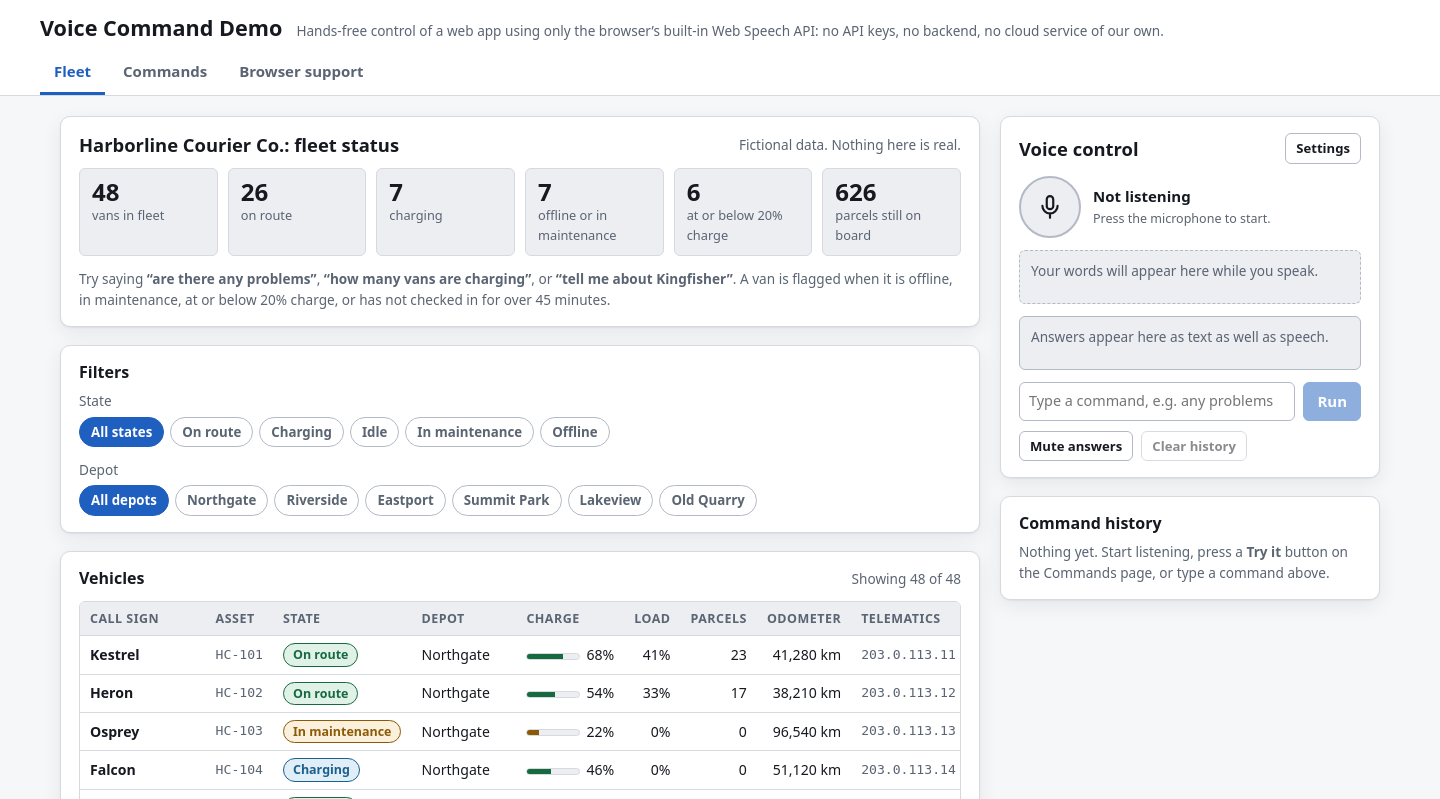
Test: click-to-try: the no-microphone path › runs a command from the Commands page and shows the spoken answer as text
Step 1. Click the button "Commands" → (165, 73), box 109,51 -> 221,95
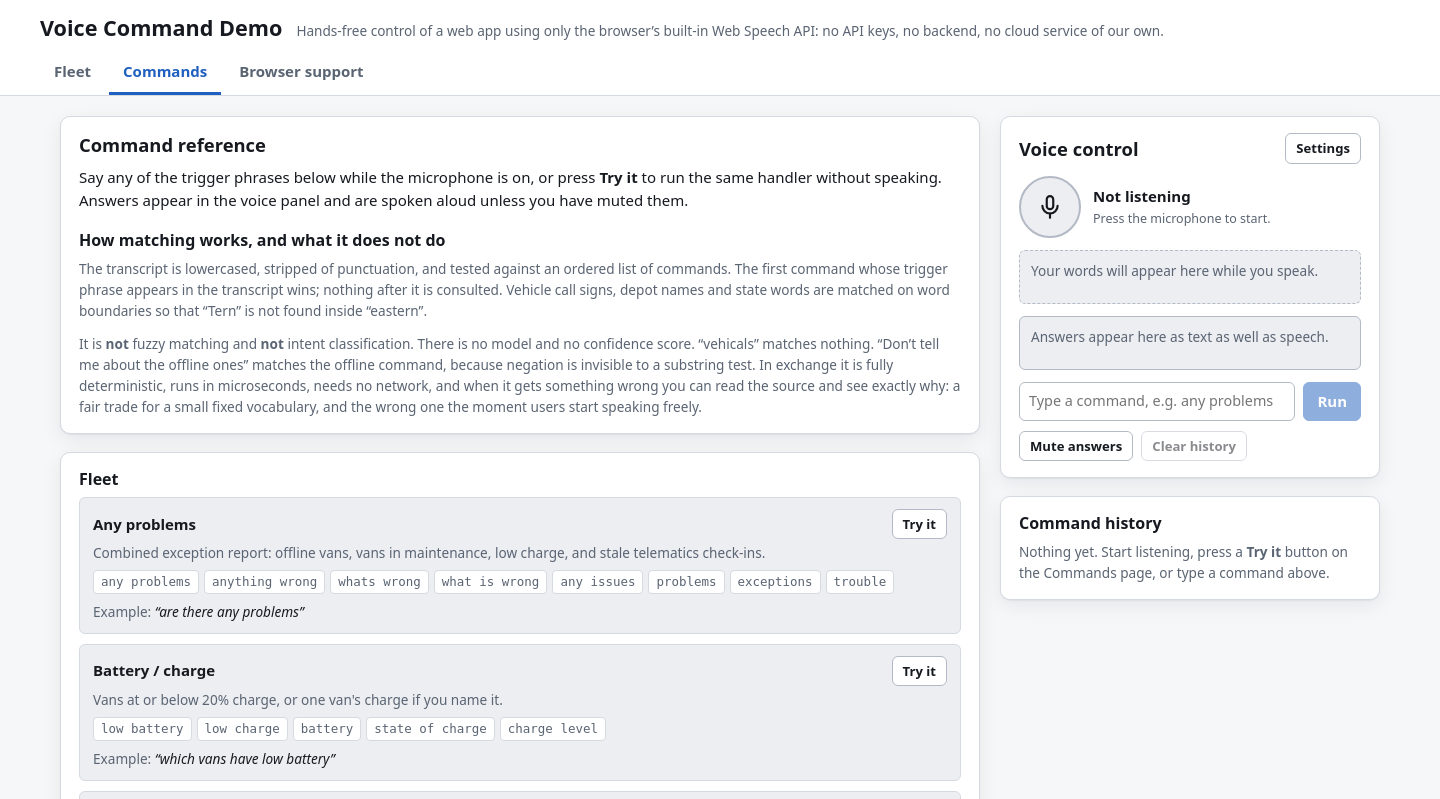
Check: the text "Command reference" is shown, box 79,132 -> 266,157
Step 2. Click the 1st button "Try it" → (919, 524), box 892,509 -> 947,539
(page scrolled)
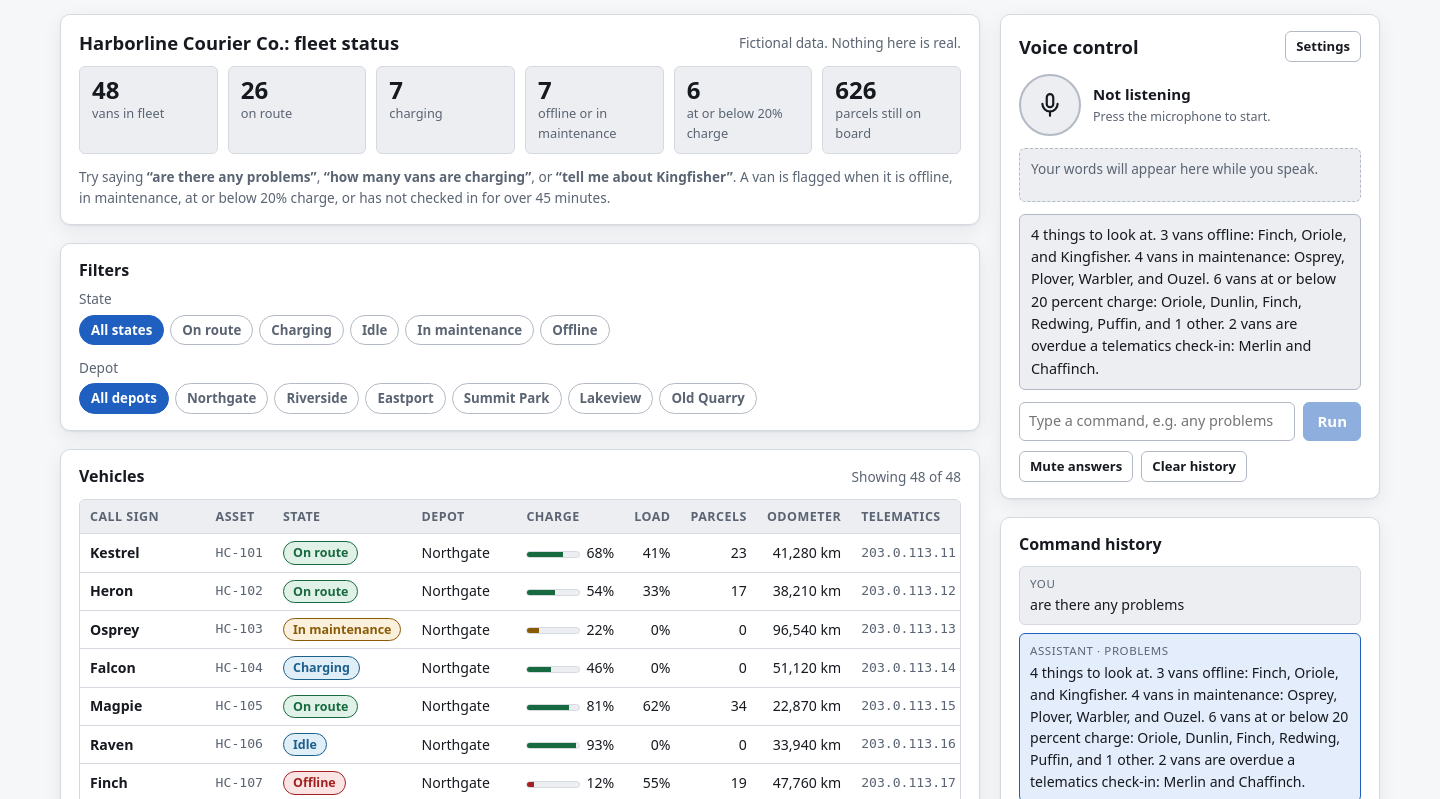
Check: the text "are there any problems" is shown, box 147,167 -> 317,186
Check: the text "3 vans offline: Finch, Oriole, and Kingfisher" is shown, box 1031,225 -> 1346,378
